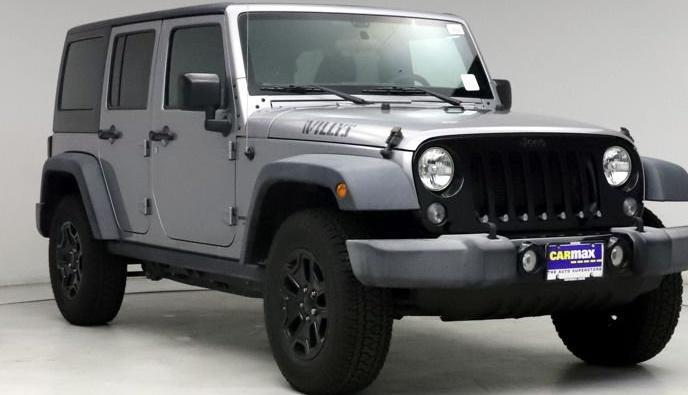SUV: (37, 5, 688, 395)
